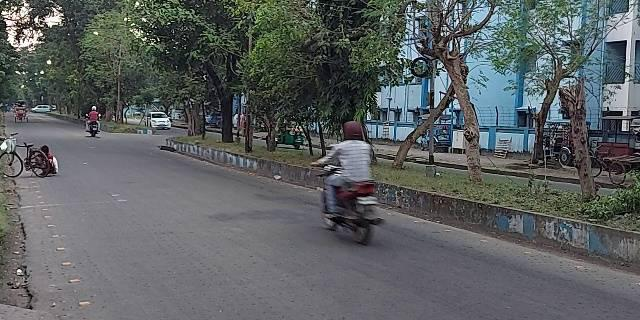Car: (145, 109, 174, 132)
Cycle: (1, 141, 51, 180)
Motorbike: (313, 124, 382, 238), (83, 105, 104, 139)
